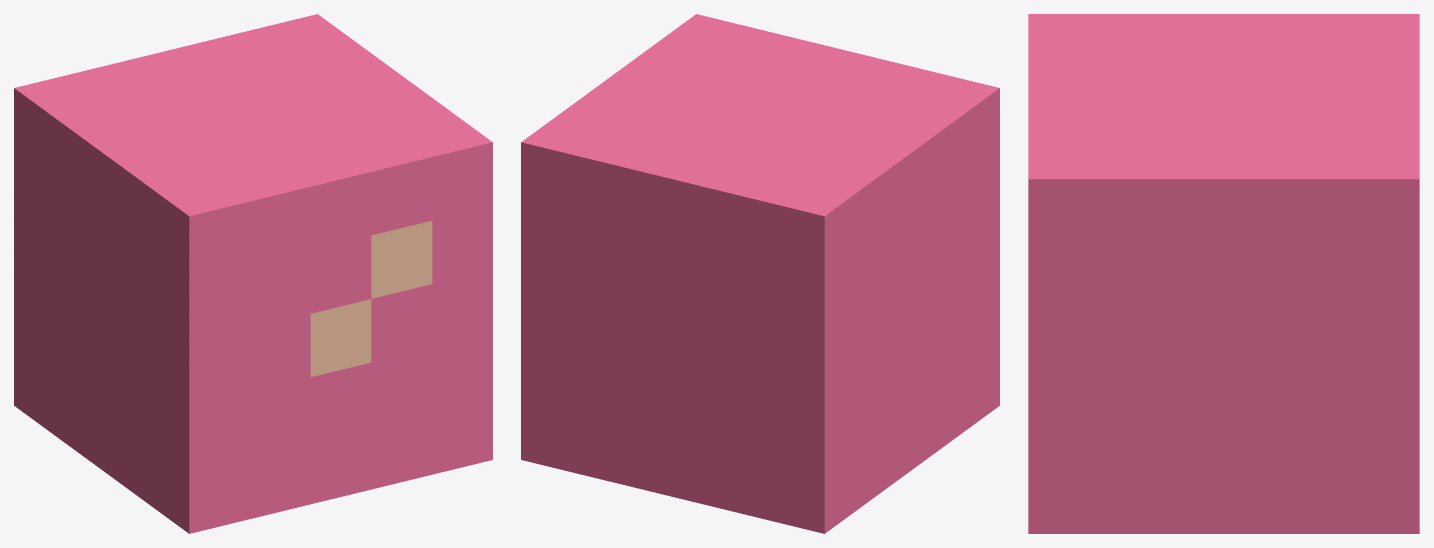
File: blob_c_idle_0.obj
3 views of the same model, side by side, from view 1: azimuth 30°, elevation 25°; view 2: azimuth 150°, elevation 25°; view 3: azimuth 270°, elevation 25° (orthographic). The views are drawn at different scales.
Size of the model in its own units: 0.5 by 0.5 by 0.5.
Materials: 1 (1 with a texture image).
